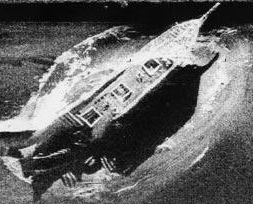ship: (1, 1, 221, 186)
